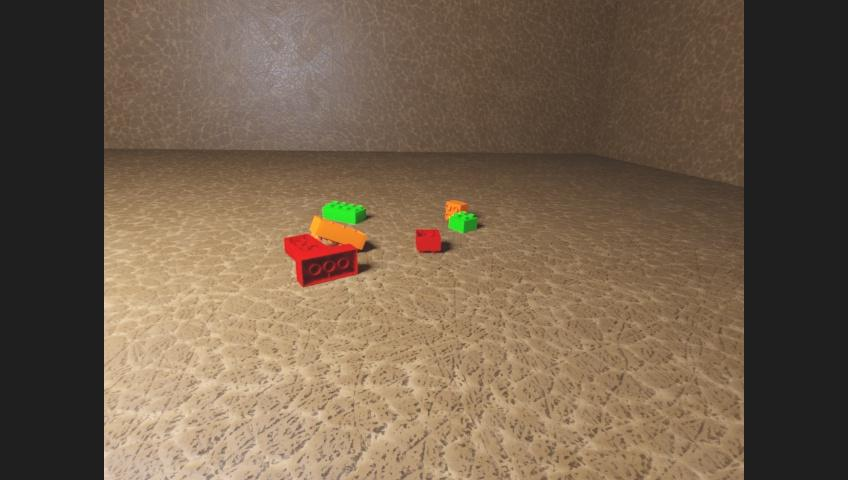2x2_green: (449, 212, 477, 233)
2x2_orange: (445, 200, 468, 221)
2x2_red: (415, 228, 440, 252)
4x2_green: (322, 200, 365, 223)
4x2_orange: (309, 215, 366, 249)
4x2_red: (294, 243, 357, 287), (283, 233, 329, 259)
